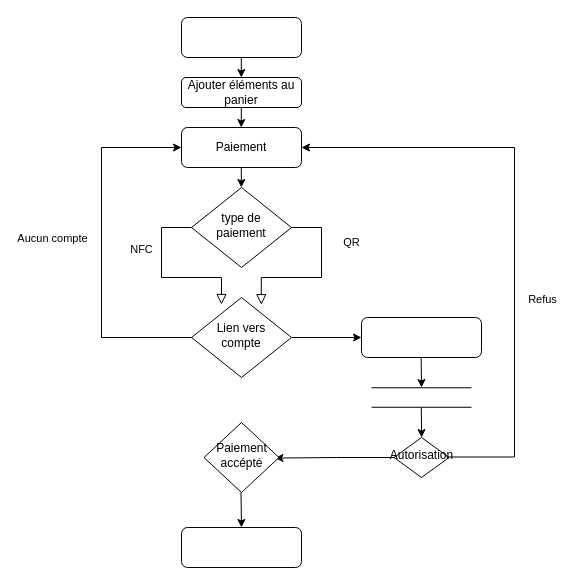
The diagram is 574 pixels wide and 585 high, and some of its shapes have lost their labels. Here are the shapes that lost their labels. From the top down, the box of each, then its label:
(180, 16, 302, 58): Login
(360, 316, 482, 358): Verification montant sur le compte
(180, 526, 302, 568): Retour aux achats
